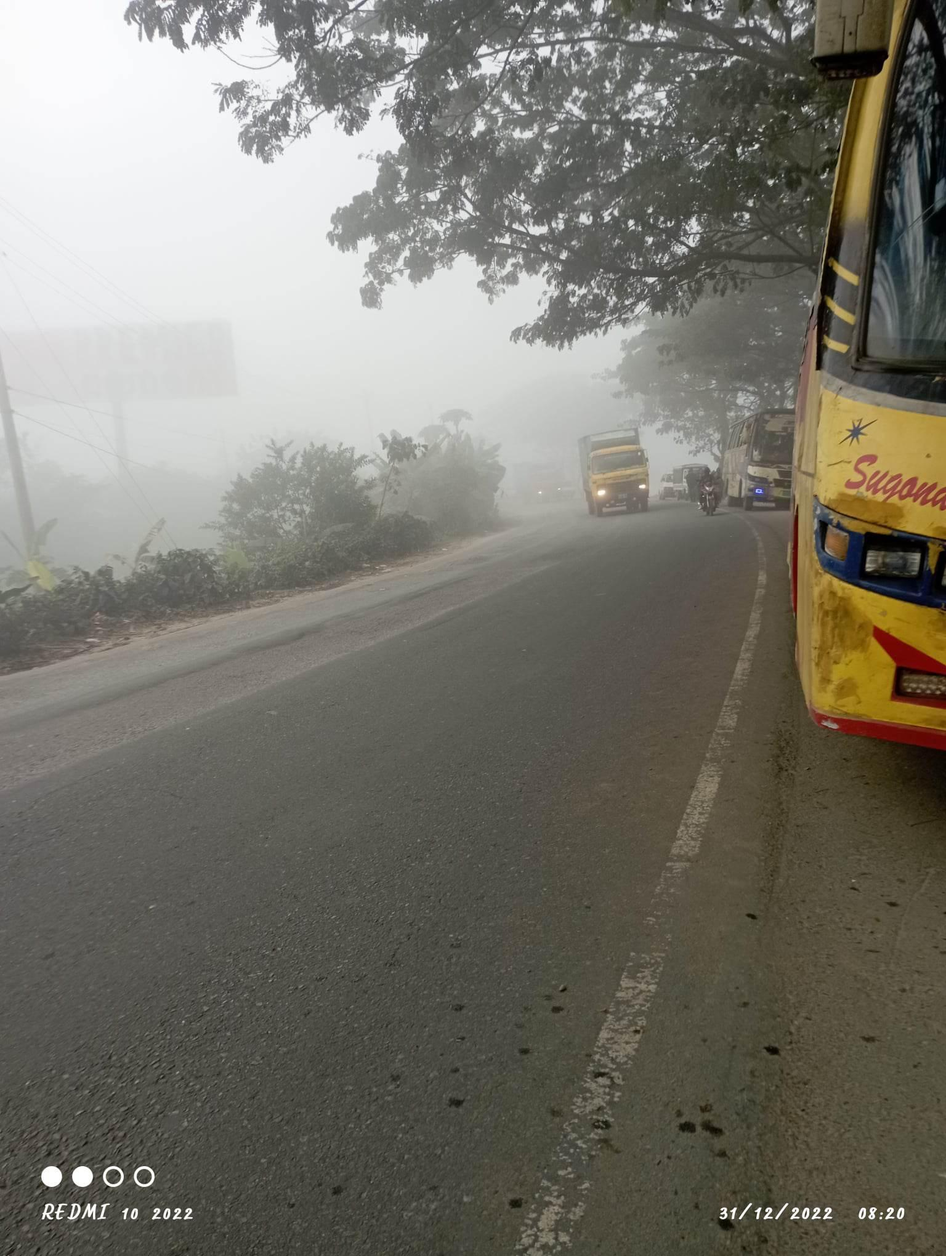Bike: (692, 460, 727, 526)
Bus: (765, 9, 946, 777), (716, 403, 795, 527)
Truck: (568, 421, 663, 523)
